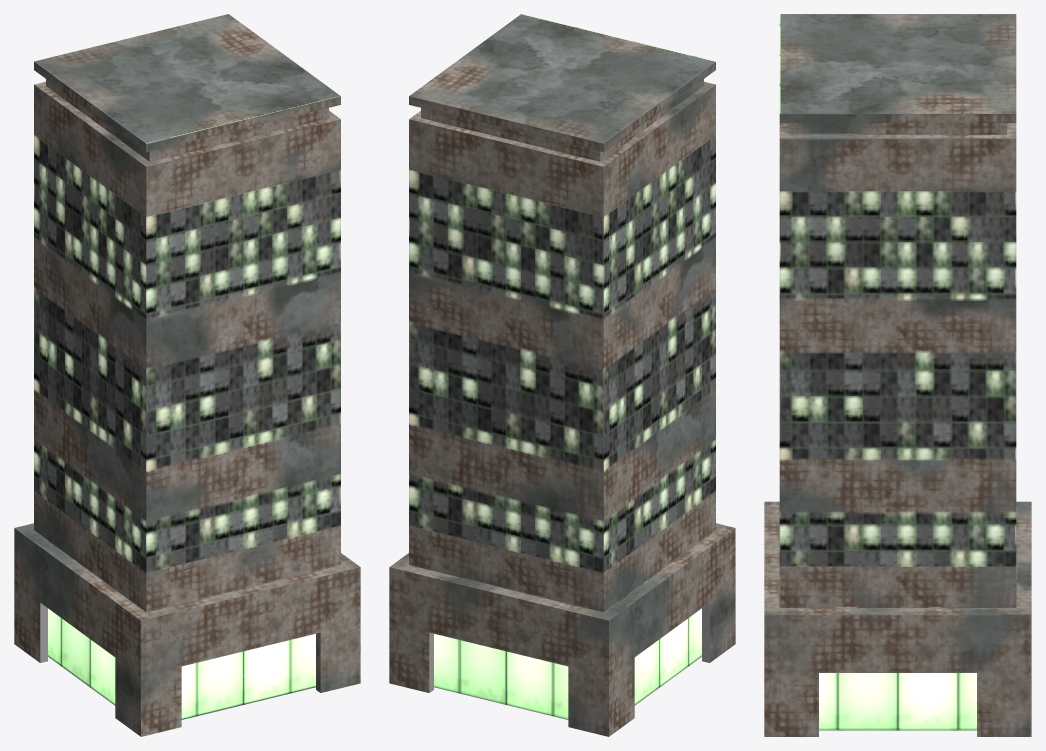
The model's file is building.gltf.
3 views of the same model, side by side, from view 1: azimuth 30°, elevation 25°; view 2: azimuth 150°, elevation 25°; view 3: azimuth 270°, elevation 25° (orthographic). The views are drawn at different scales.
Parts seen in each view (by area): view 1: Cube; view 2: Cube; view 3: Cube.
Part boxes in pixels (x1,y1,x2,y2): Cube: (14,14,360,736); Cube: (389,14,735,736); Cube: (764,14,1031,736).
Size of the model in its own units: 7.41 by 18.86 by 7.41.
